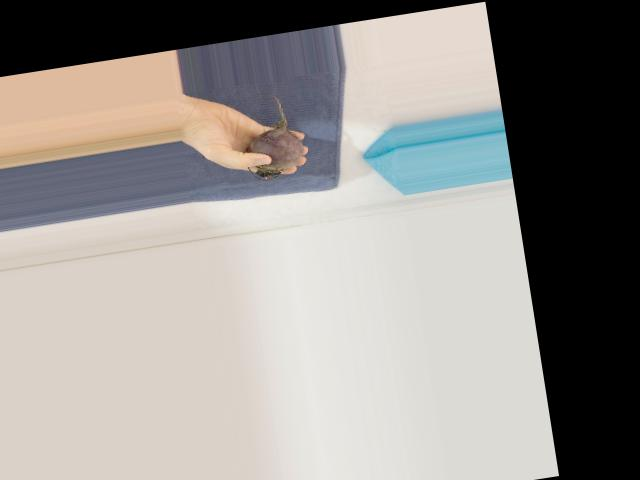beet: (237, 92, 307, 182)
